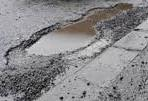pothole: (0, 3, 141, 97)
